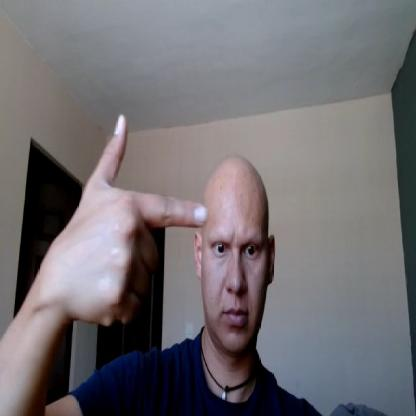G: (59, 113, 210, 329)
